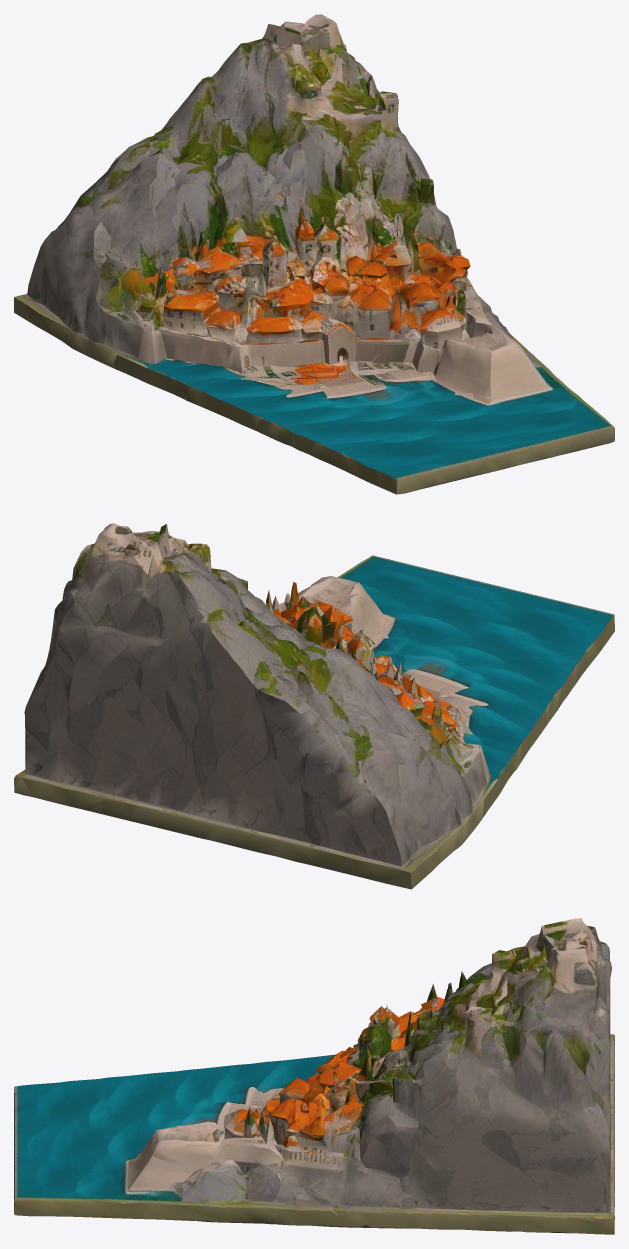
Rendered from kotor.glb.
3 views of the same model, one above another, from view 1: azimuth 30°, elevation 25°; view 2: azimuth 150°, elevation 25°; view 3: azimuth 270°, elevation 25° (orthographic). The views are drawn at different scales.
Parts seen in each view (by area): view 1: logan-textured.obj; view 2: logan-textured.obj; view 3: logan-textured.obj.
Part boxes in pixels (<box>): logan-textured.obj: <box>14,14,614,494</box>; logan-textured.obj: <box>14,523,614,889</box>; logan-textured.obj: <box>14,918,614,1234</box>.
Bounding box in the file's own units: 0.7263 × 0.473 × 1.
1 material, 1 textured.
